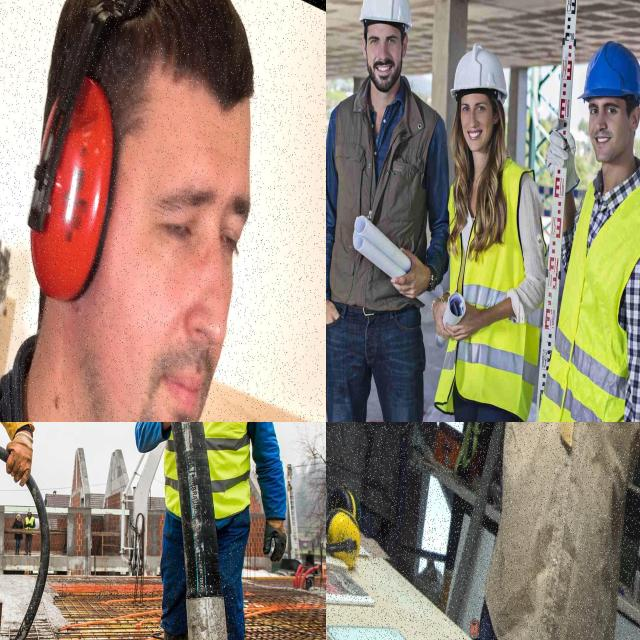Ear-protection: (19, 10, 130, 335)
No_Ear-Protection: (630, 103, 640, 132)
No_Glasses: (586, 100, 622, 122), (368, 31, 402, 51), (461, 102, 493, 117)
face_nomask: (585, 97, 632, 167), (368, 22, 407, 90), (461, 96, 495, 148)
hand_glove: (257, 500, 293, 575), (0, 424, 39, 484)
hand_noglove: (395, 241, 440, 306), (435, 300, 481, 350)
head_helmet: (451, 42, 516, 104), (586, 36, 640, 101), (350, 0, 422, 31)
person: (326, 0, 434, 422), (556, 34, 640, 422), (141, 422, 287, 640), (444, 30, 522, 422), (24, 510, 36, 558), (12, 512, 23, 558)
vest: (547, 172, 640, 422), (446, 163, 538, 403), (163, 422, 254, 516)
